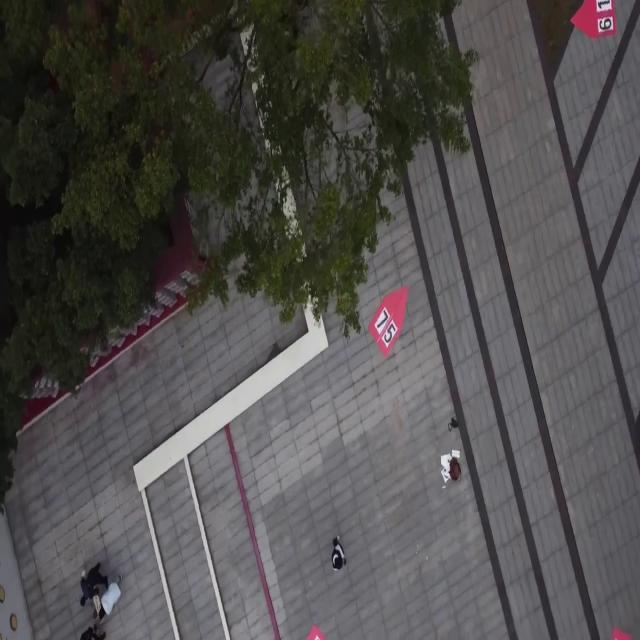-sign-: (367, 284, 409, 359), (571, 0, 617, 40), (306, 624, 328, 640)
